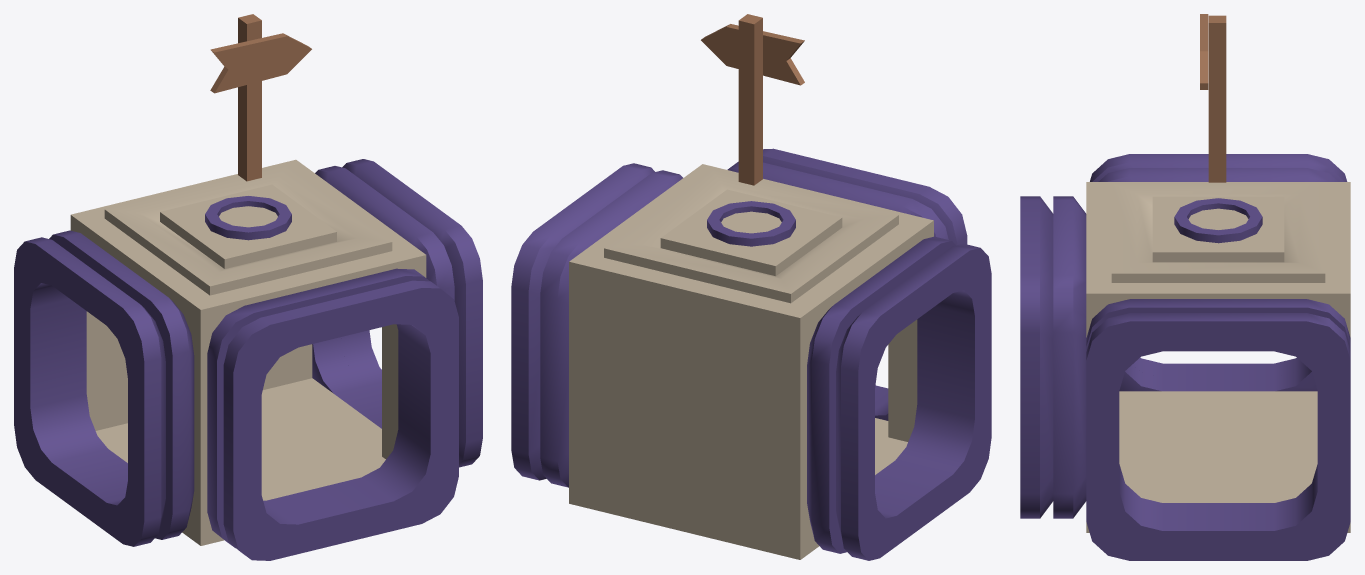
The model's file is Splitter.fbx.
3 views of the same model, side by side, from view 1: azimuth 30°, elevation 25°; view 2: azimuth 150°, elevation 25°; view 3: azimuth 270°, elevation 25° (orthographic). The views are drawn at different scales.
Visible parts, largest first — view 1: Cube, Cube.001; view 2: Cube, Cube.001; view 3: Cube, Cube.001.
Boxes of the visible parts, box(x1,y1,x2,y2) form: Cube: box(14, 159, 482, 560); Cube.001: box(210, 14, 311, 181); Cube: box(511, 148, 991, 560); Cube.001: box(701, 14, 804, 185); Cube: box(1020, 154, 1350, 560); Cube.001: box(1200, 14, 1226, 182).
Bounding box in the file's own units: 195 × 249 × 163.
